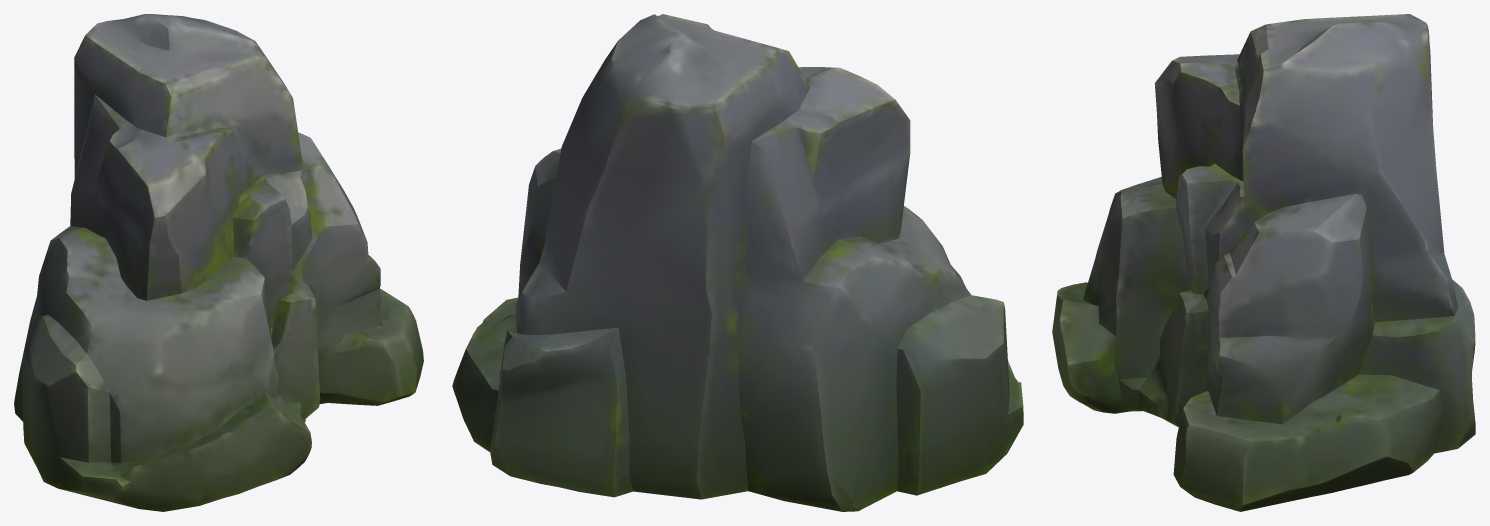
The model's file is Rock_Big_1.glb.
The picture shows the model from 3 angles, left to right: view 1: azimuth 30°, elevation 25°; view 2: azimuth 150°, elevation 25°; view 3: azimuth 270°, elevation 25°; orthographic projection. The views are drawn at different scales.
Parts seen in each view (by area): view 1: Rock_Big_1; view 2: Rock_Big_1; view 3: Rock_Big_1.
Boxes of the visible parts, x1,y1,x2,y2 form: Rock_Big_1: [14, 14, 423, 511]; Rock_Big_1: [452, 14, 1023, 511]; Rock_Big_1: [1052, 14, 1475, 511].
Bounding box in the file's own units: 5.2 × 4.58 × 4.45.
1 material, 1 textured.
